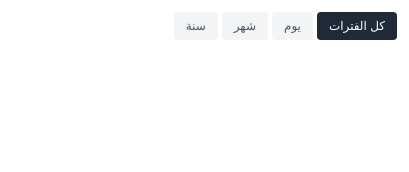
Test case: CalendarFilter (NEX-64) › still filters as it did: a range anchors on today, each picker sends a date inside its bucket, All time clears
Click the button "يوم" at (292,26), box [272,12,313,40]
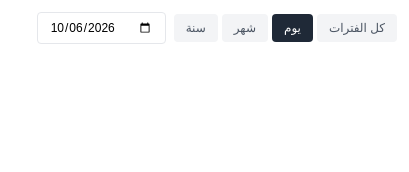
Type "2026-09-05" into the date field named "يوم" at (101,28), box [37,12,166,44]
Click the button "شهر" at (245,28), box [222,14,268,42]
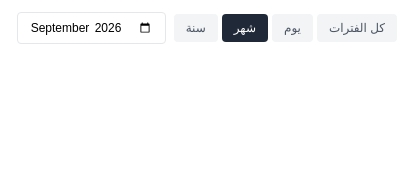
Result: the field named "شهر" holds "2026-09"
Replace the text in the field named "شهر" with "2026-08" at (91,28), box [17,12,166,44]
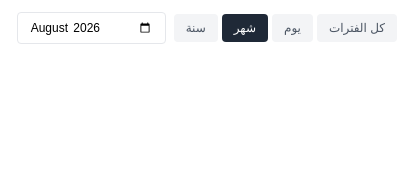
Click the button "سنة" at (196,28), box [174,14,218,42]
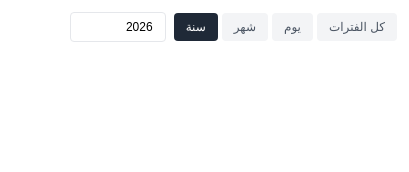
Result: the number field named "سنة" holds "2026"
Replace the text in the number field named "سنة" with "2025" at (118,27), box [70,12,166,42]
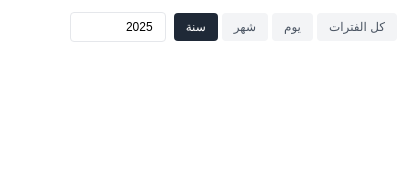
Click the button "كل الفترات" at (357,27), box [317,13,397,41]
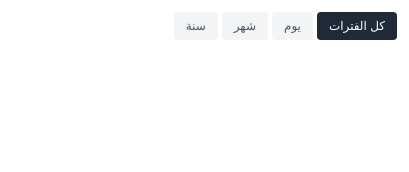
Result: the number field is gone
